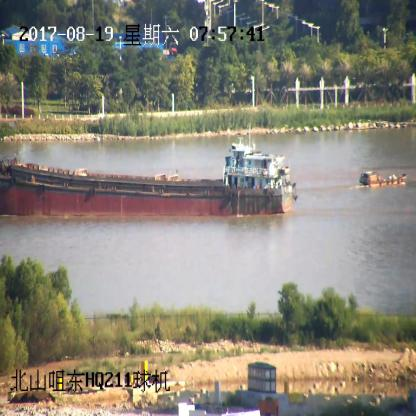Bulk Carrier: (0, 133, 296, 218)
